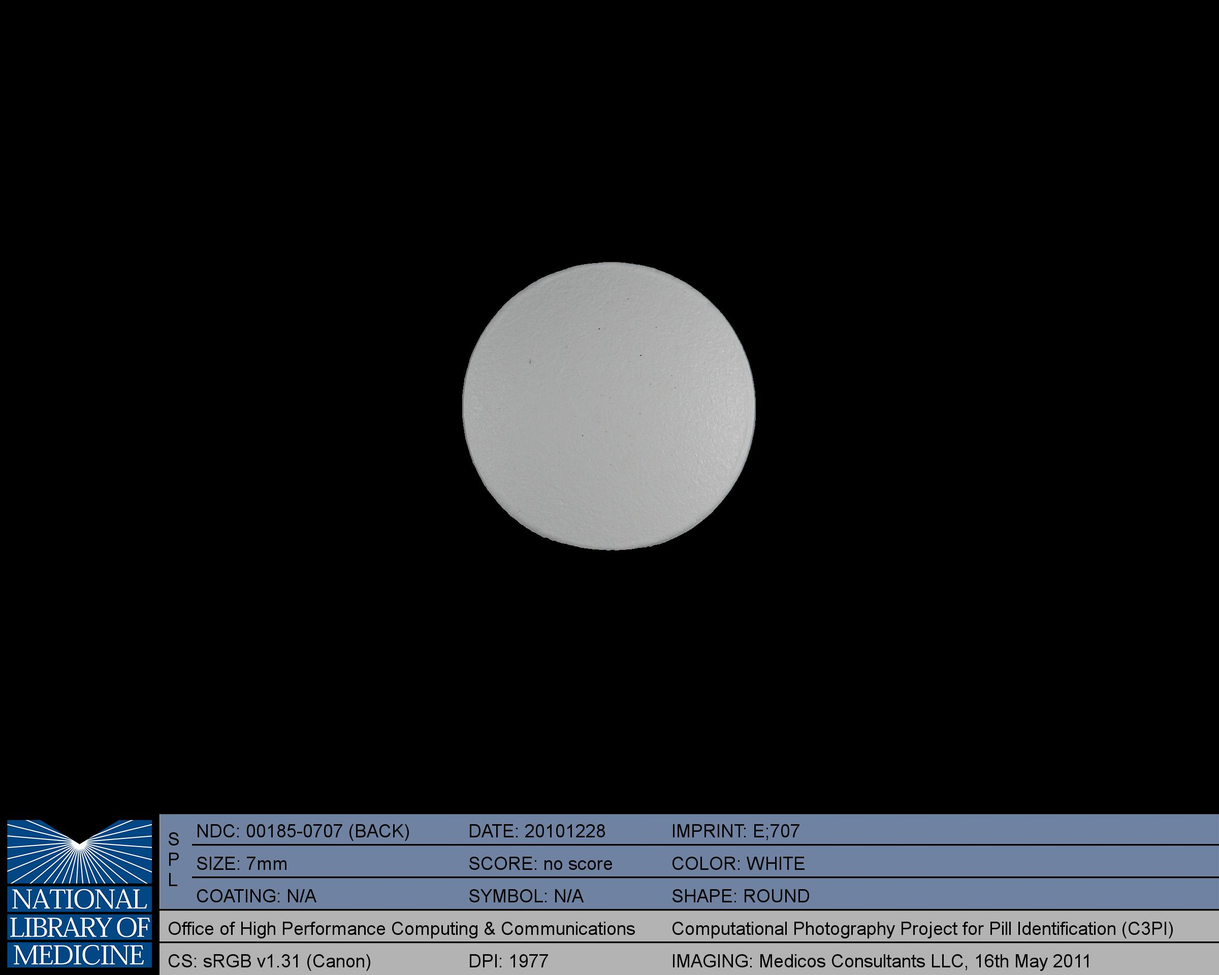Pill: (450, 249, 770, 560)
